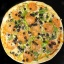olives: (29, 11, 43, 25), (15, 46, 33, 55), (10, 22, 22, 33), (47, 40, 58, 48), (30, 40, 40, 47)
pizza: (1, 1, 64, 64)
